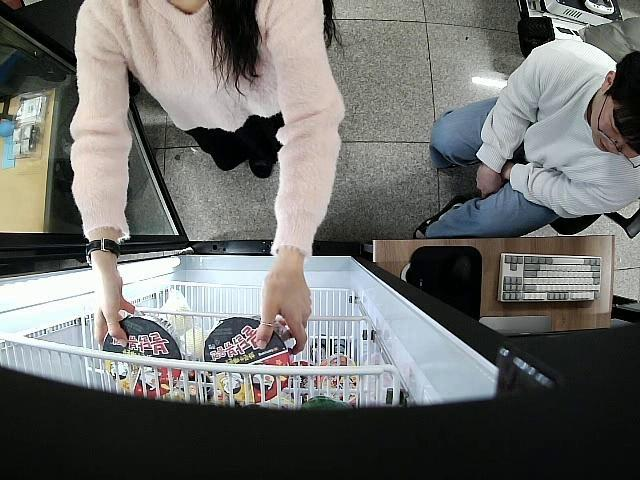07_buldak_L: (204, 318, 290, 403), (102, 313, 184, 398)
